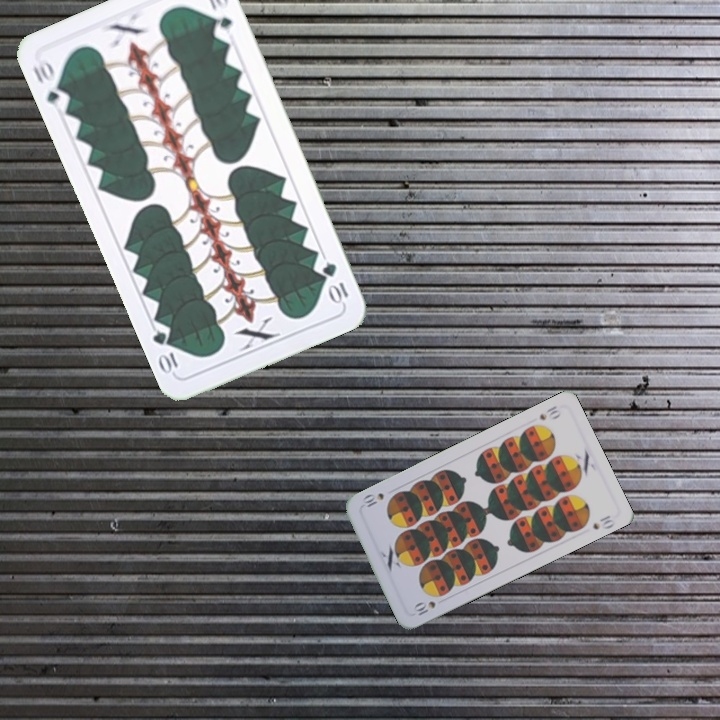G10: (28, 57, 72, 114), (318, 258, 351, 306)
S10: (409, 597, 439, 618), (535, 402, 564, 423)
